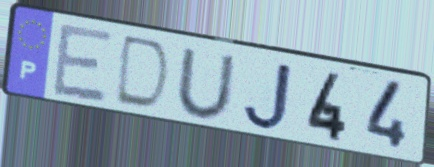4: (363, 77, 414, 157), (304, 70, 350, 144)
D: (111, 32, 174, 115)
E: (50, 20, 116, 105)
J: (240, 60, 296, 133)
U: (173, 45, 238, 123)
